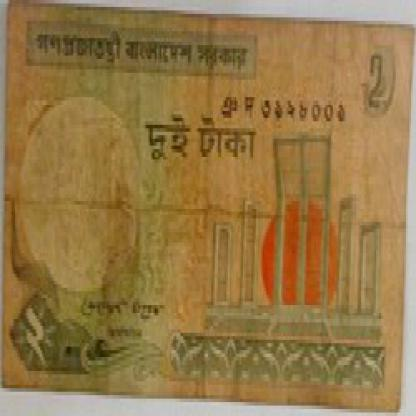two taka: (17, 288, 50, 392), (359, 42, 391, 128)
